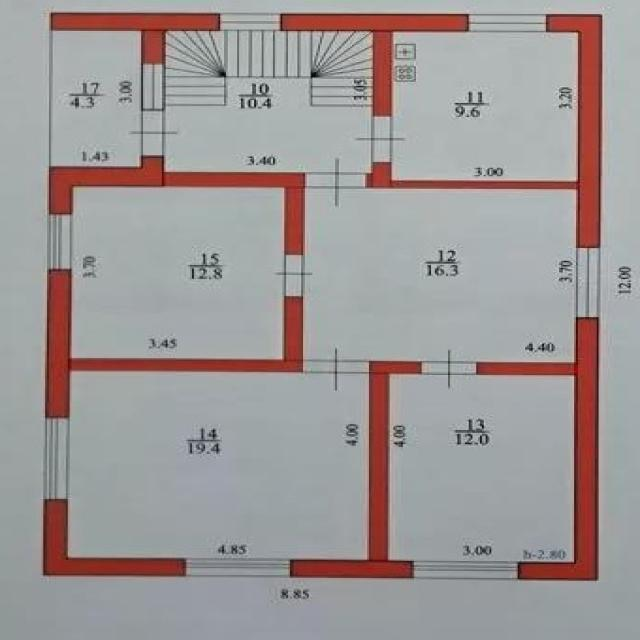Corridors: (53, 32, 140, 167)
Doors: (306, 156, 369, 208), (302, 346, 370, 391), (421, 347, 477, 390), (354, 117, 406, 162), (128, 111, 179, 156), (272, 254, 313, 296)
LBwalls: (519, 318, 600, 581), (547, 14, 603, 247), (42, 502, 183, 576), (48, 156, 163, 214), (44, 270, 72, 415), (281, 13, 465, 31), (50, 13, 218, 31), (290, 559, 412, 579), (140, 31, 165, 63)
Offices: (69, 373, 368, 558), (304, 190, 575, 361), (75, 188, 282, 359), (390, 376, 574, 561), (394, 33, 577, 179)
Stairs: (167, 32, 369, 171)
Walls: (70, 296, 303, 374), (164, 172, 304, 254), (368, 359, 421, 559), (370, 163, 577, 189), (372, 32, 392, 116), (478, 362, 574, 375)
Windows: (44, 416, 68, 500), (184, 559, 291, 577), (412, 561, 518, 579), (576, 246, 601, 318), (466, 14, 548, 33), (47, 214, 72, 269), (219, 12, 281, 31), (141, 64, 166, 110)
